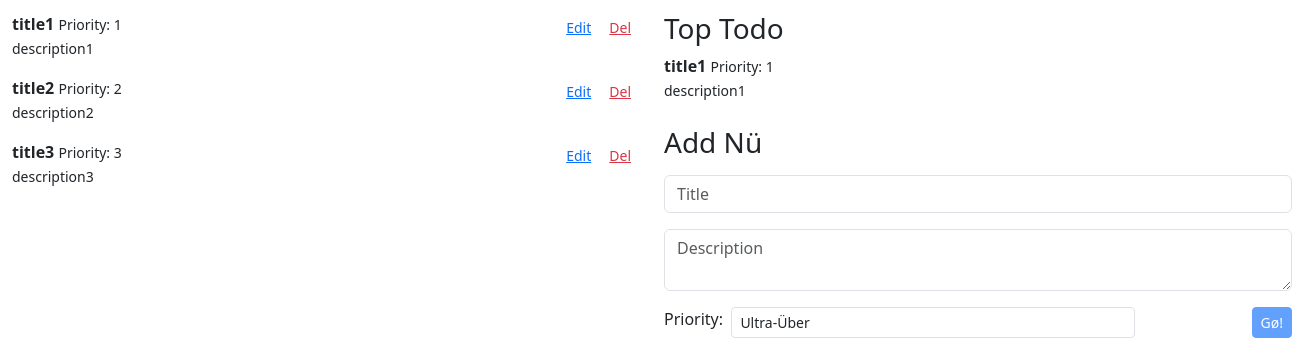
TodoApp component › editing a Todo works
Click the 1st button with class "EditableTodo-toggle" at x=579, y=28, box [557,12,600,43]
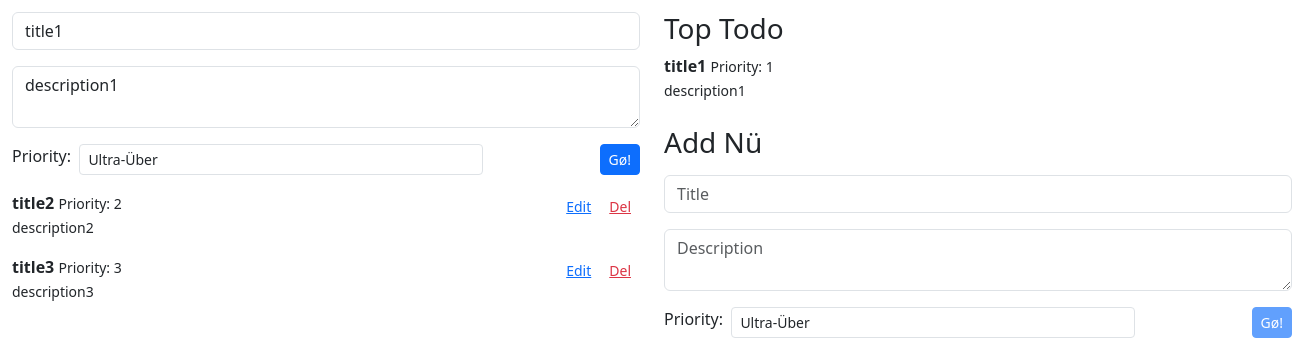
Replace the text in the field named "title" with "edited t1" at x=326, y=31, box [12,12,640,50]
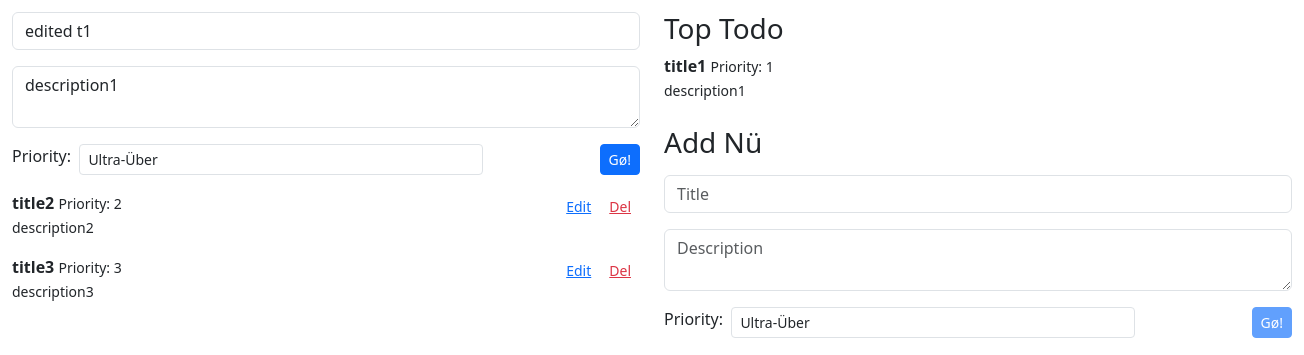
Replace the text in the text box named "description" with "edited d1" at x=326, y=97, box [12,66,640,128]
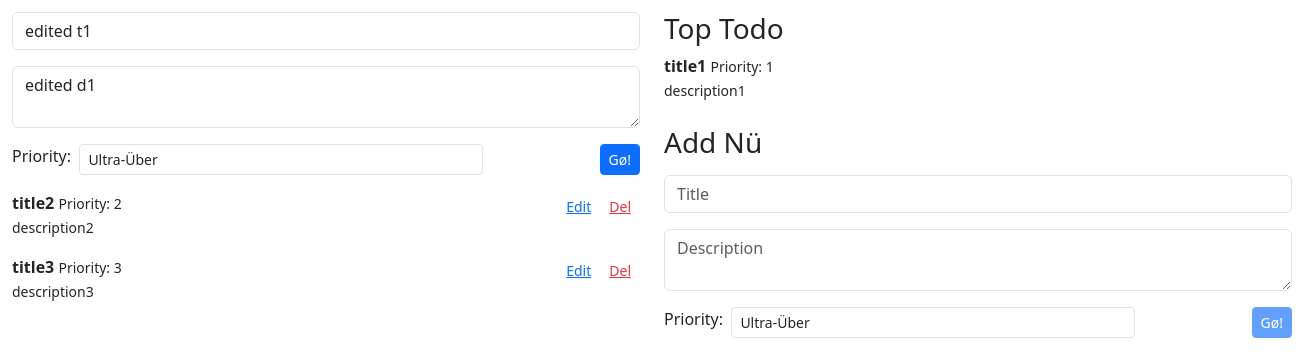
Select "Über" in the dropdown named "priority" at x=281, y=160, box [79,144,483,175]
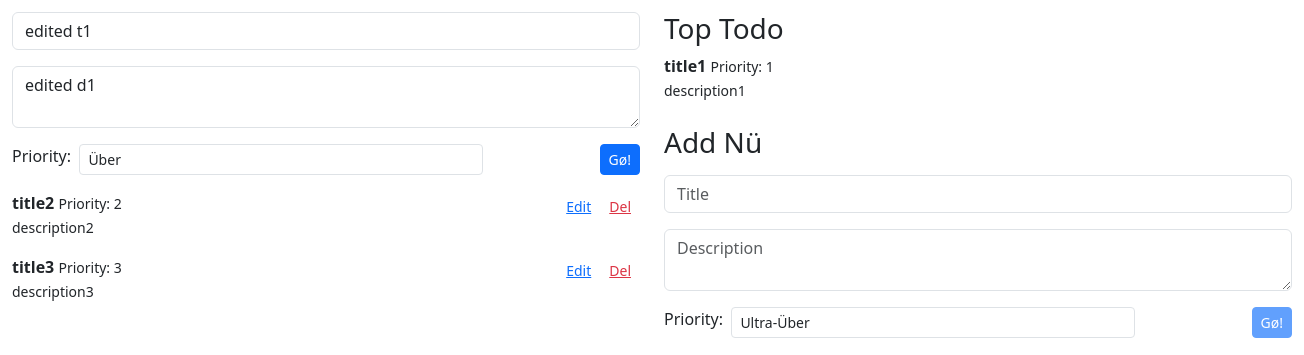
Click the 1st button with class "NewTodoForm-addBtn" at x=620, y=160, box [600,144,640,175]
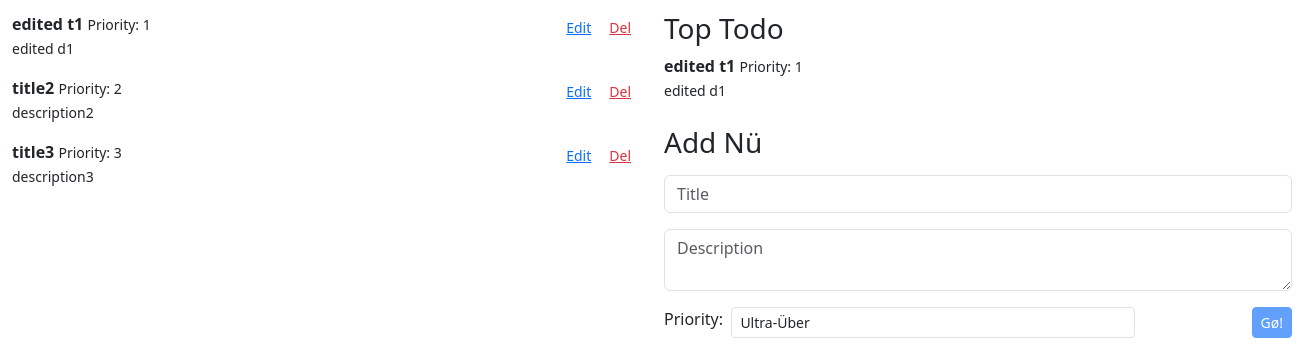
Now the text "edited t1" is shown, box [12,13,83,35]
Now the text "edited d1" is shown, box [12,39,74,58]
Now the text "title1" is gone
